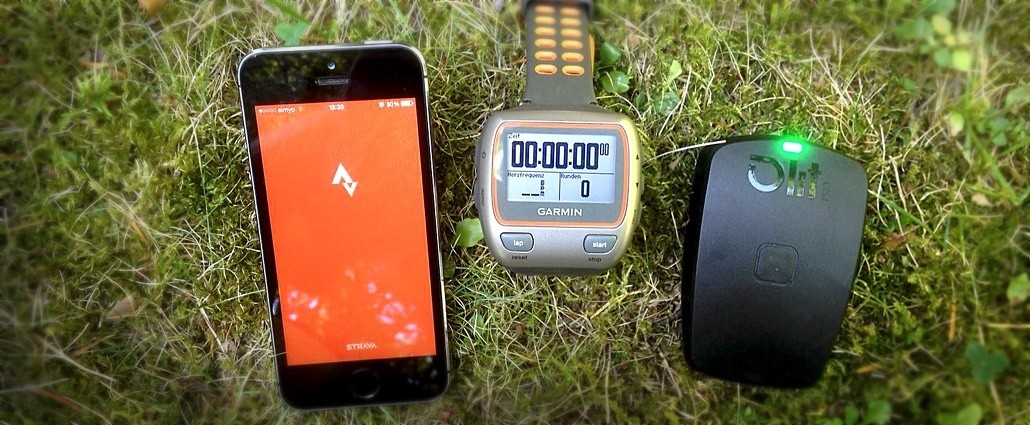Cell Phone: (238, 42, 465, 403)
